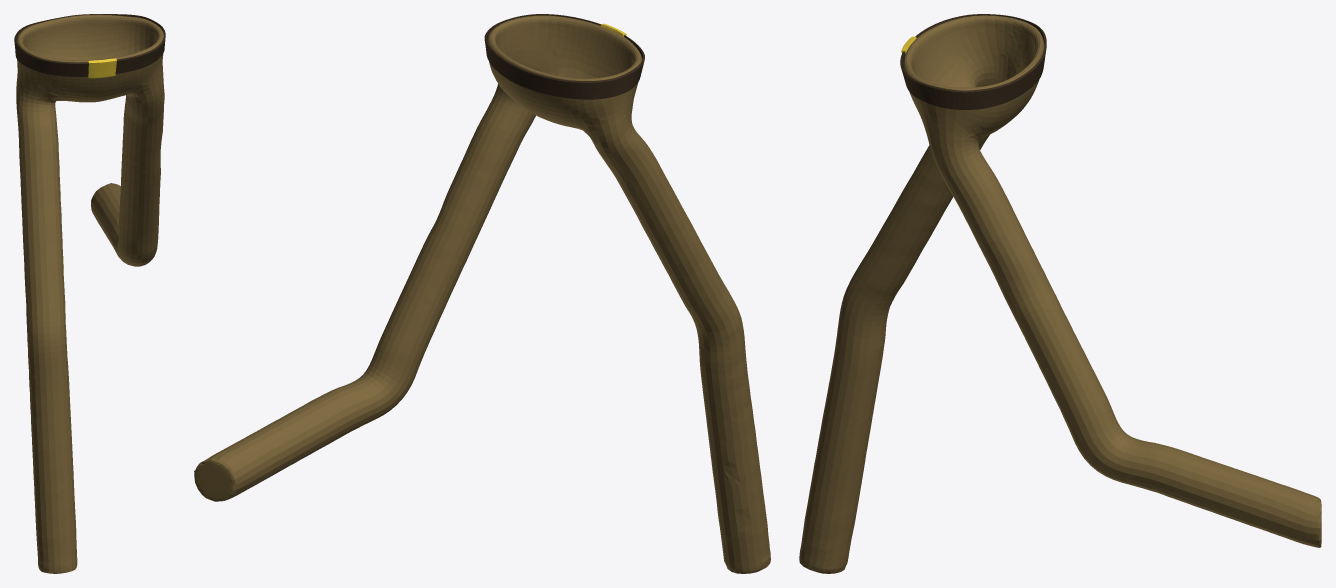
Rendered from kalhoty.OBJ.
3 renders of one model, left to right at view 1: azimuth 30°, elevation 25°; view 2: azimuth 150°, elevation 25°; view 3: azimuth 270°, elevation 25°, orthographic. The views are drawn at different scales.
Visible parts, largest first — view 1: ZBrushPolyMesh3D; view 2: ZBrushPolyMesh3D; view 3: ZBrushPolyMesh3D.
Part boxes in pixels (x1,y1,x2,y2): ZBrushPolyMesh3D: [14, 14, 165, 573]; ZBrushPolyMesh3D: [194, 14, 770, 573]; ZBrushPolyMesh3D: [799, 14, 1321, 573].
Size of the model in its own units: 0.9184 by 1.42 by 1.17.
